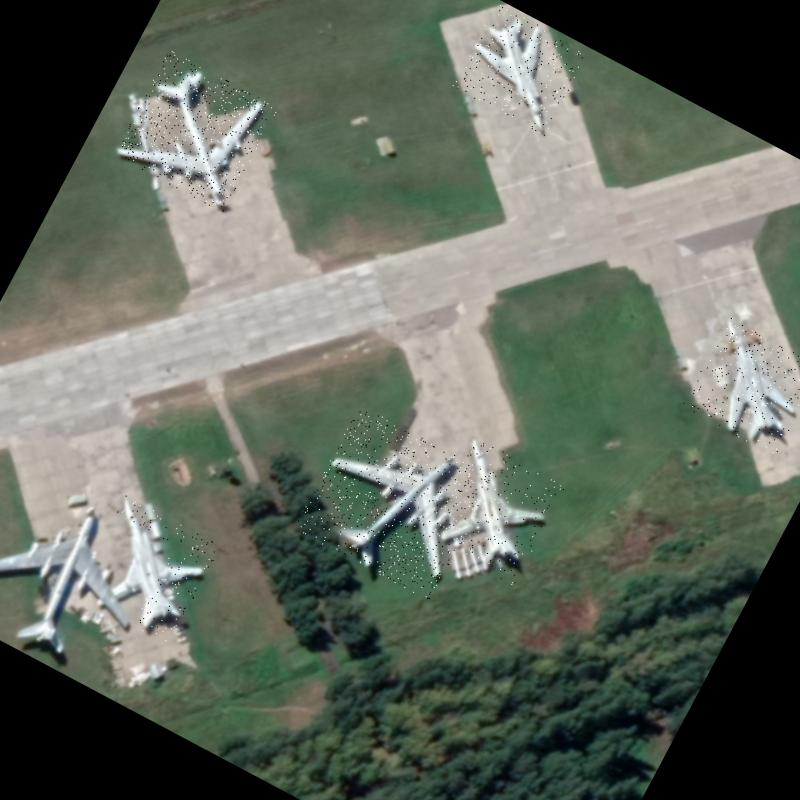A12: (73, 495, 220, 645), (420, 436, 566, 586), (452, 2, 590, 136), (681, 316, 800, 456)
A17: (293, 404, 495, 601), (0, 471, 173, 684), (113, 50, 278, 212)
